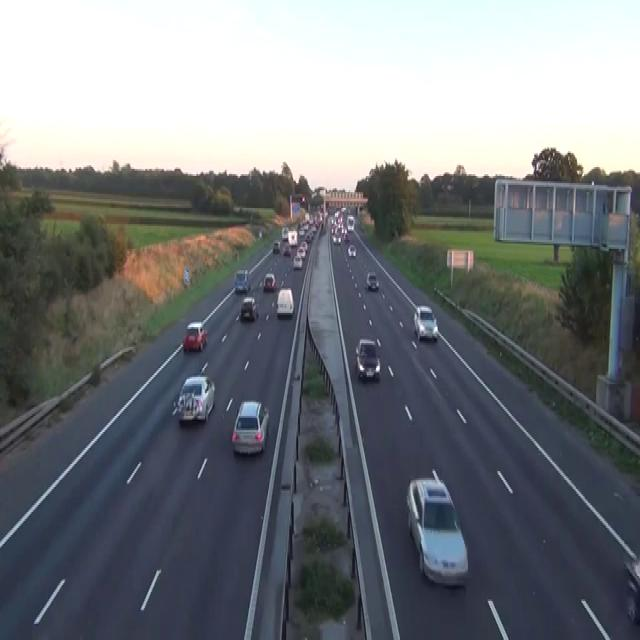Car: (405, 469, 468, 587), (172, 373, 215, 423), (231, 400, 269, 455), (623, 558, 639, 624), (355, 338, 380, 380), (413, 304, 438, 341), (182, 322, 206, 352), (276, 288, 294, 316), (240, 297, 258, 320), (234, 268, 249, 294), (366, 270, 379, 290), (263, 272, 276, 292), (347, 244, 356, 258), (293, 254, 302, 268), (297, 245, 306, 258), (272, 240, 280, 252), (282, 244, 290, 256), (333, 234, 341, 243), (343, 231, 349, 242), (304, 212, 310, 222), (446, 183, 454, 190), (340, 204, 346, 213), (301, 240, 307, 249), (298, 228, 304, 236), (258, 228, 262, 238), (301, 194, 305, 202)
